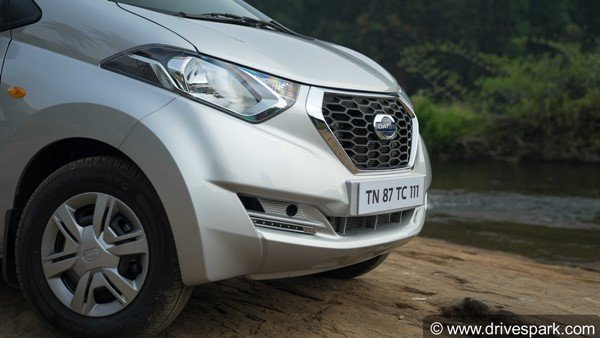number_plate: (356, 180, 428, 216)
